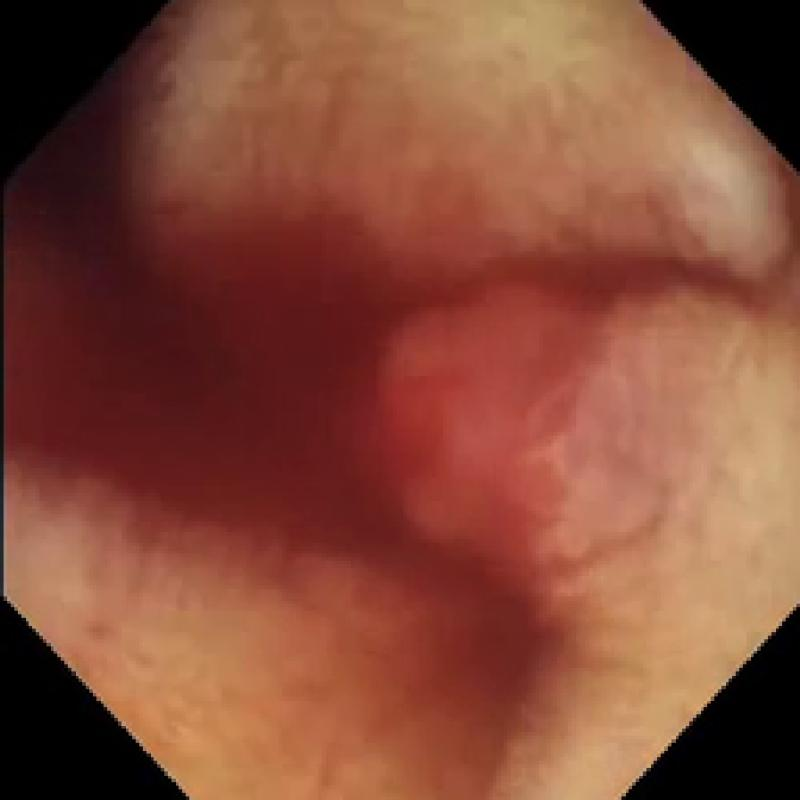bleeding: (3, 21, 768, 800)
